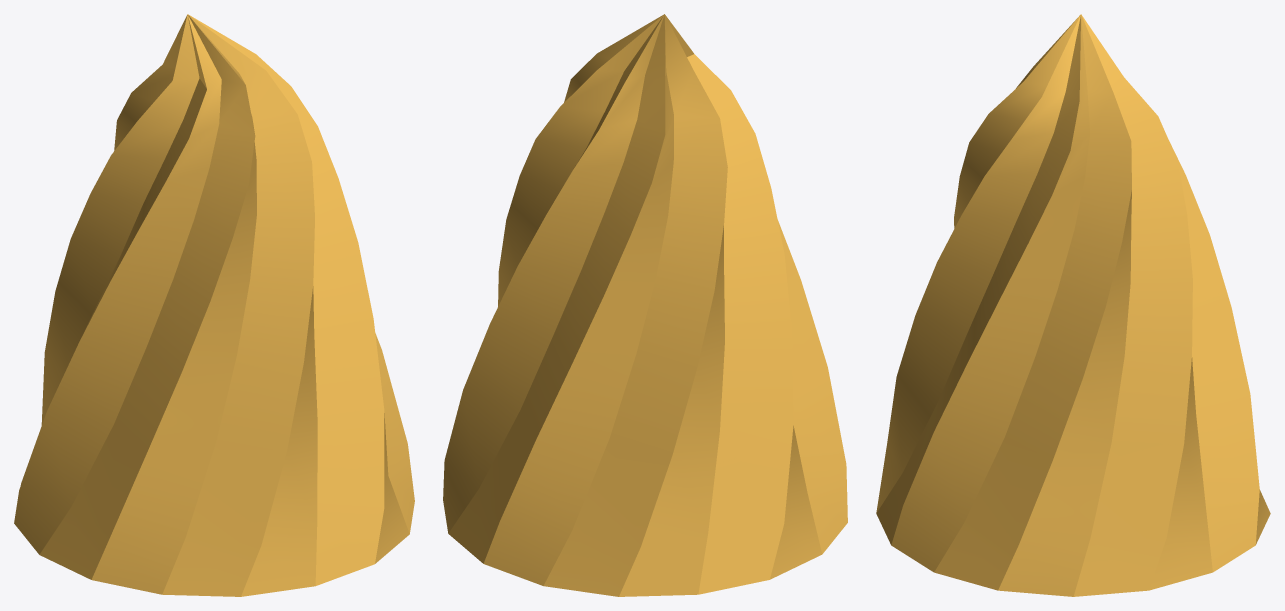
The model's file is Ice Cream Hat D.fbx.
3 renders of one model, left to right at view 1: azimuth 30°, elevation 25°; view 2: azimuth 150°, elevation 25°; view 3: azimuth 270°, elevation 25°, orthographic. The views are drawn at different scales.
Parts seen in each view (by area): view 1: Ice Cream Hat D; view 2: Ice Cream Hat D; view 3: Ice Cream Hat D.
Boxes of the visible parts, <box> form: Ice Cream Hat D: <box>14,14,414,596</box>; Ice Cream Hat D: <box>443,14,847,596</box>; Ice Cream Hat D: <box>876,14,1270,596</box>.
Size of the model in its own units: 0.4333 by 0.5923 by 0.4333.
